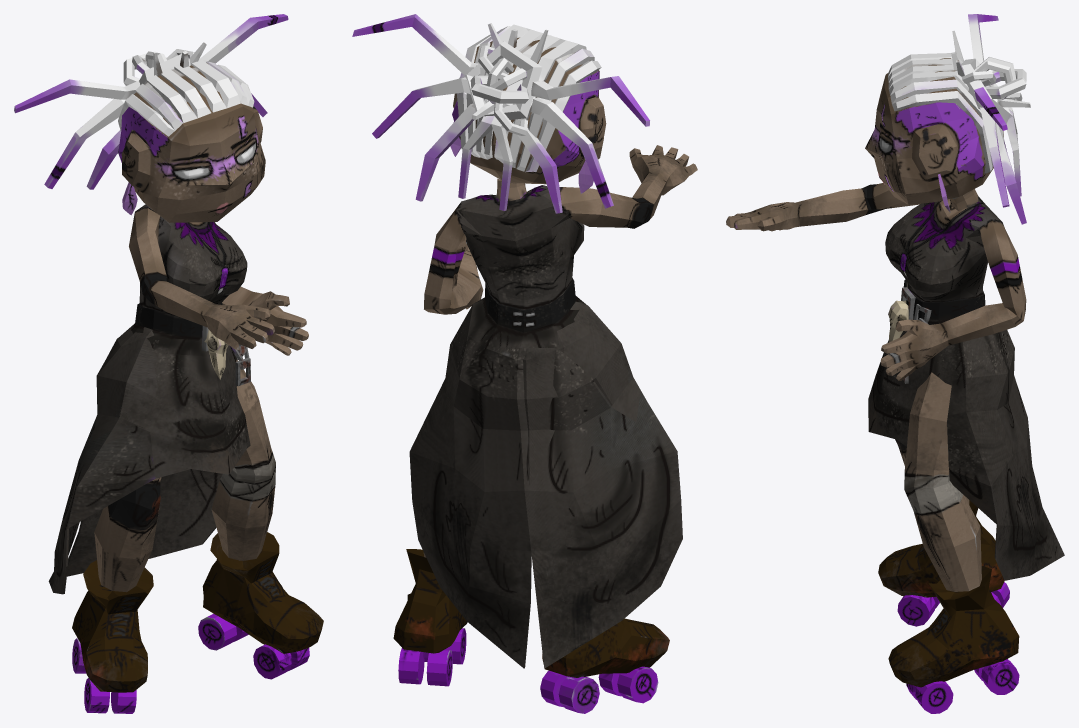
The model's file is bruja_000014.obj.
3 views of the same model, side by side, from view 1: azimuth 30°, elevation 25°; view 2: azimuth 150°, elevation 25°; view 3: azimuth 270°, elevation 25° (orthographic). The views are drawn at different scales.
Parts seen in each view (by area): view 1: Bruja_Plane.001; view 2: Bruja_Plane.001; view 3: Bruja_Plane.001.
Part boxes in pixels (x1,y1,x2,y2): Bruja_Plane.001: [14, 14, 323, 713]; Bruja_Plane.001: [352, 14, 697, 713]; Bruja_Plane.001: [726, 14, 1064, 713].
Size of the model in its own units: 7.45 by 16.36 by 8.11.
